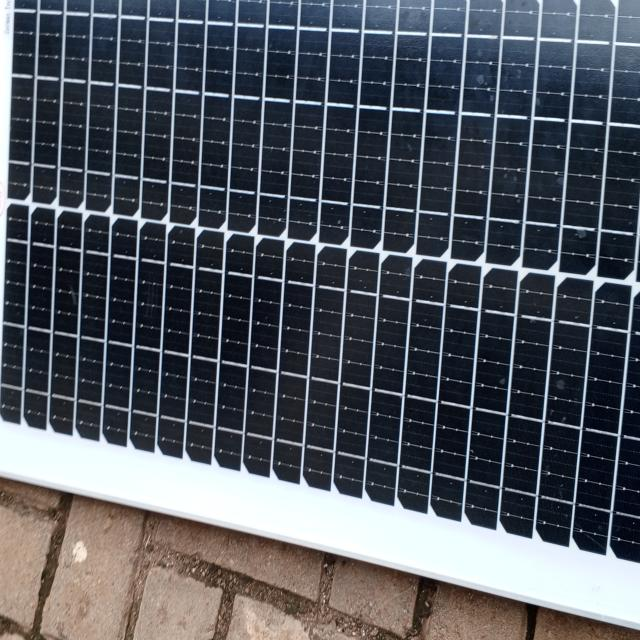Clean: (1, 0, 640, 460)
